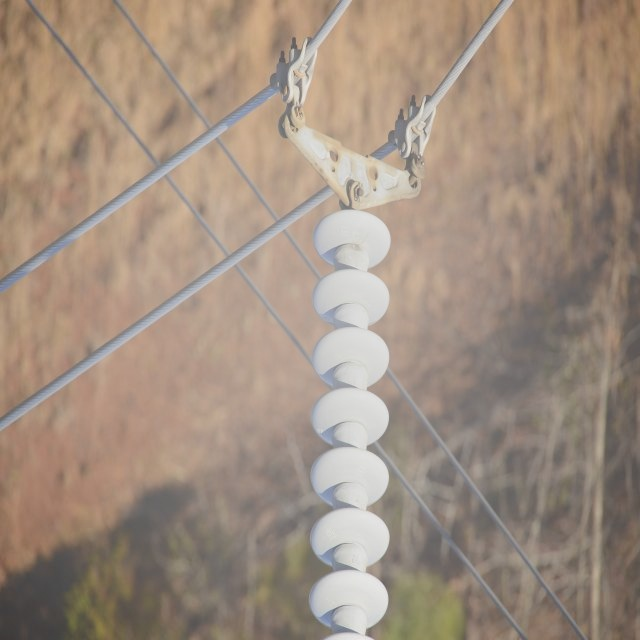insulator: (308, 207, 391, 640)
